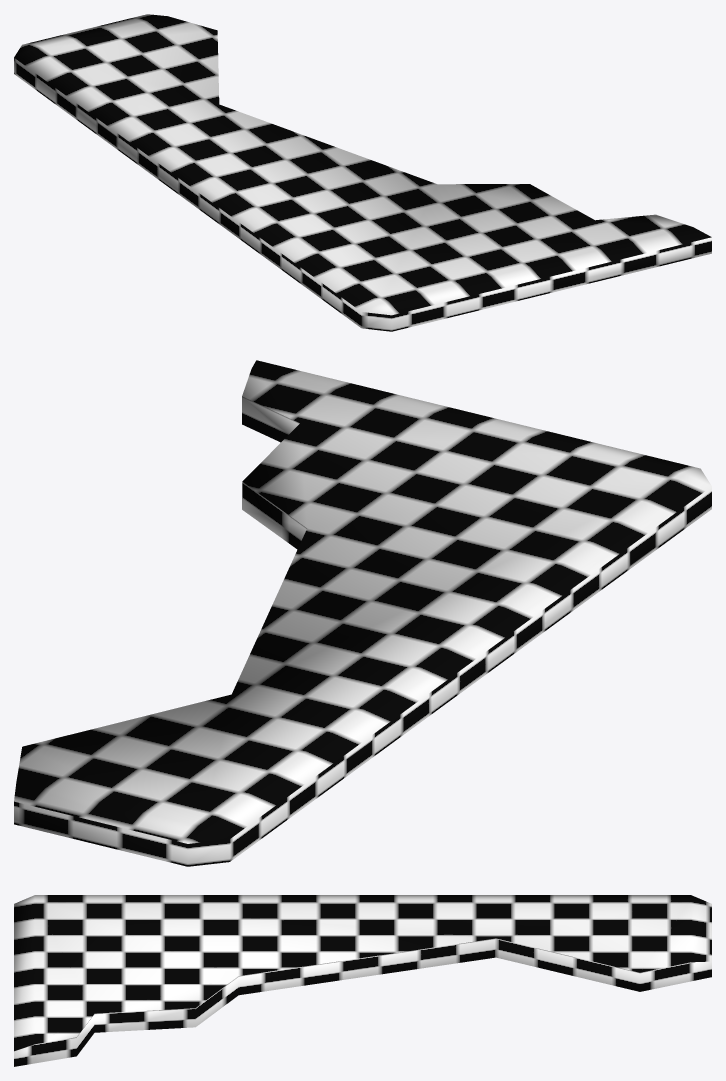
Rendered from stst109.dae.
The picture shows the model from 3 angles, top to bottom: view 1: azimuth 30°, elevation 25°; view 2: azimuth 150°, elevation 25°; view 3: azimuth 270°, elevation 25°; orthographic projection. The views are drawn at different scales.
Parts seen in each view (by area): view 1: base1; view 2: base1; view 3: base1.
Part boxes in pixels (bbox=[...]): base1: bbox=[14, 14, 711, 331]; base1: bbox=[14, 360, 711, 866]; base1: bbox=[14, 895, 711, 1066].
Bounding box in the file's own units: 1.59 × 2.99 × 0.0906.
Materials: 1 (1 with a texture image).
